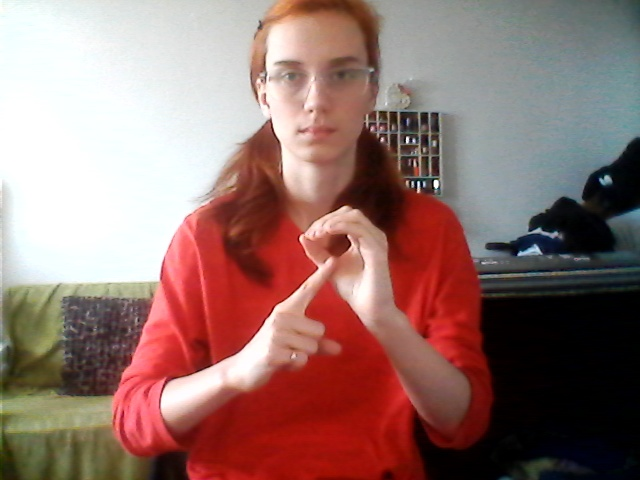q: (235, 201, 422, 402)
